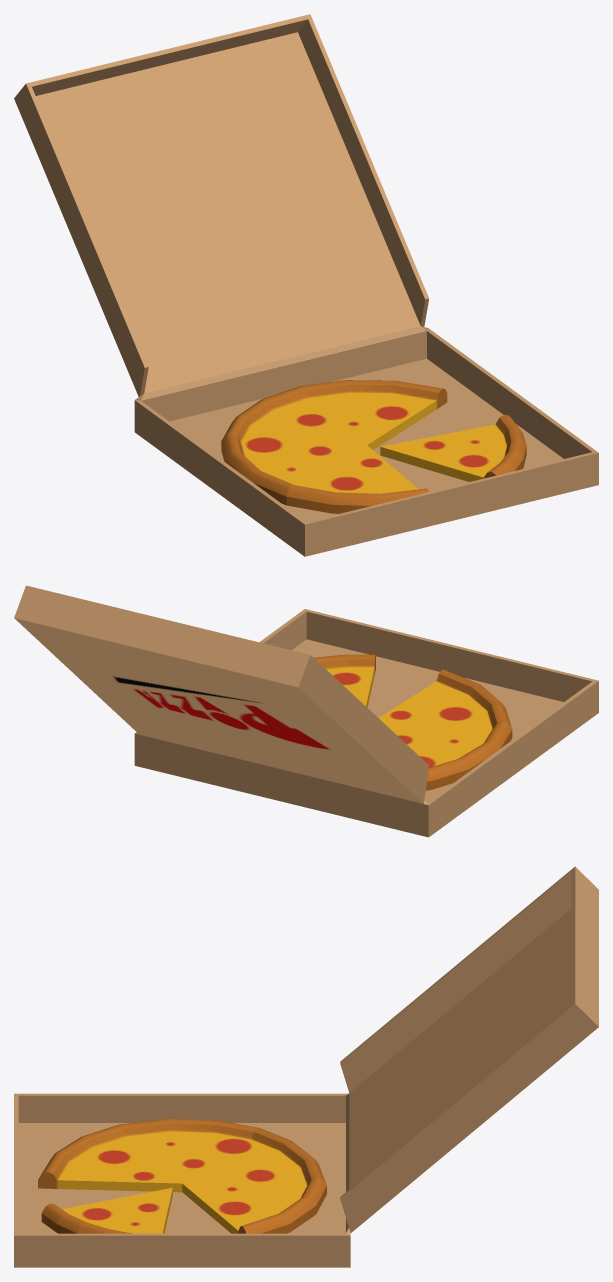
The model's file is Pizza.fbx.
3 views of the same model, one above another, from view 1: azimuth 30°, elevation 25°; view 2: azimuth 150°, elevation 25°; view 3: azimuth 270°, elevation 25° (orthographic).
Parts seen in each view (by area): view 1: Pizza; view 2: Pizza; view 3: Pizza.
Part boxes in pixels (x1,y1,x2,y2): Pizza: [14, 14, 598, 556]; Pizza: [14, 585, 598, 837]; Pizza: [14, 866, 598, 1267].
Bounding box in the file's own units: 32.07 × 27.56 × 55.84.
